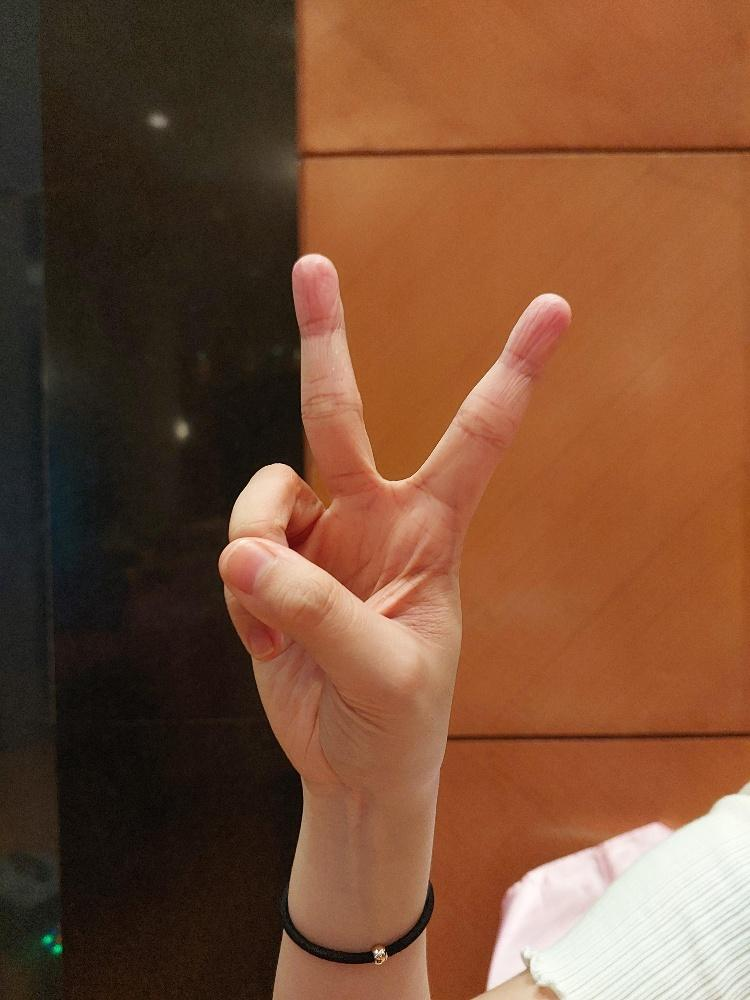v: (211, 250, 573, 795)
